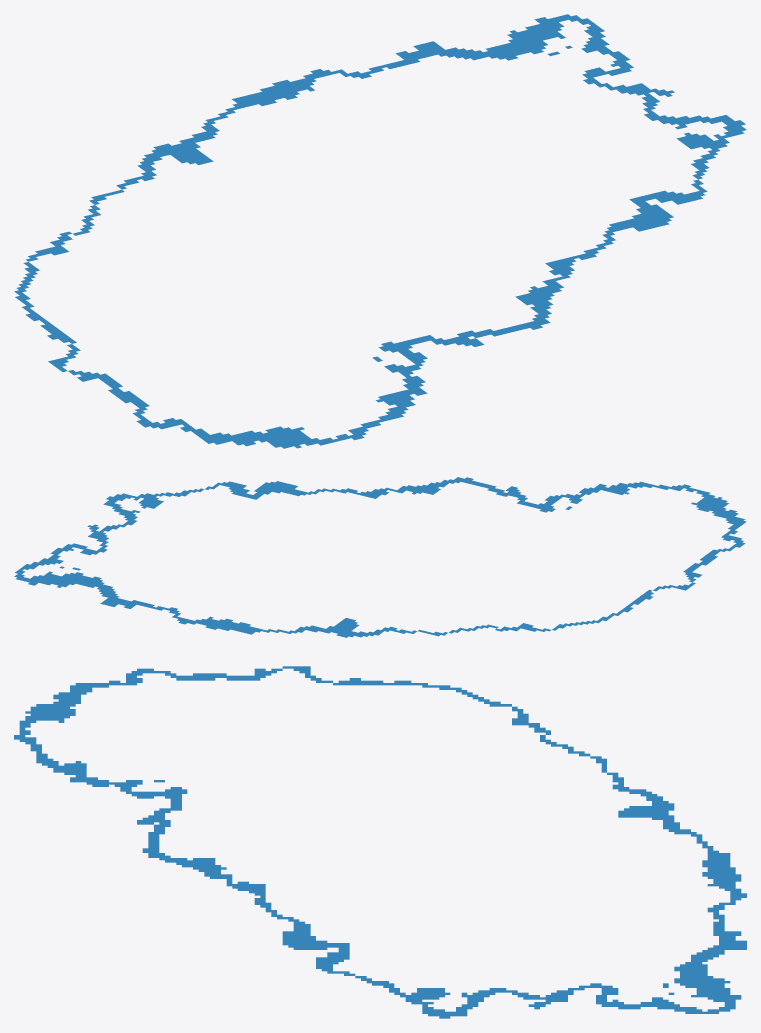
File: Isl-bot2-PlaceForWaterObjects.fbx
The picture shows the model from 3 angles, top to bottom: view 1: azimuth 30°, elevation 25°; view 2: azimuth 150°, elevation 25°; view 3: azimuth 270°, elevation 25°; orthographic projection. The views are drawn at different scales.
Parts seen in each view (by area): view 1: Isl-bot2-PlaceForWaterObjects; view 2: Isl-bot2-PlaceForWaterObjects; view 3: Isl-bot2-PlaceForWaterObjects.
Part boxes in pixels (left/top/right/bottom): Isl-bot2-PlaceForWaterObjects: left=14, top=14, right=746, bottom=448; Isl-bot2-PlaceForWaterObjects: left=14, top=477, right=746, bottom=637; Isl-bot2-PlaceForWaterObjects: left=14, top=666, right=746, bottom=1018.
Size of the model in its own units: 149 by 0 by 131.
